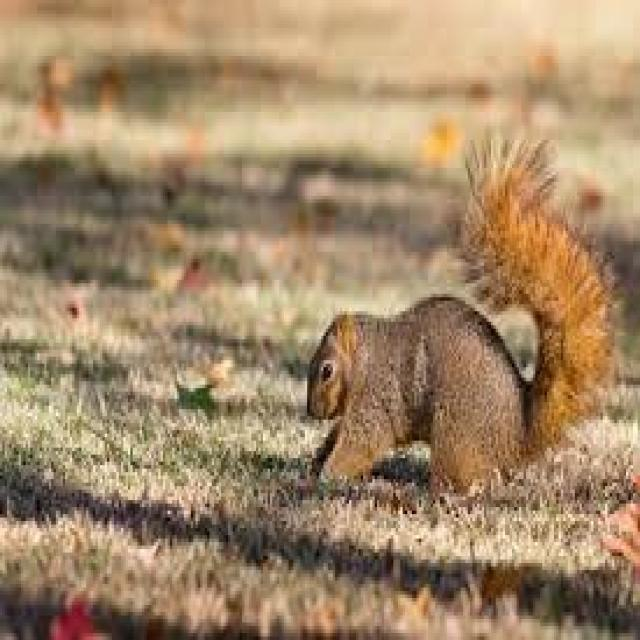license-plate: (289, 138, 613, 526)
